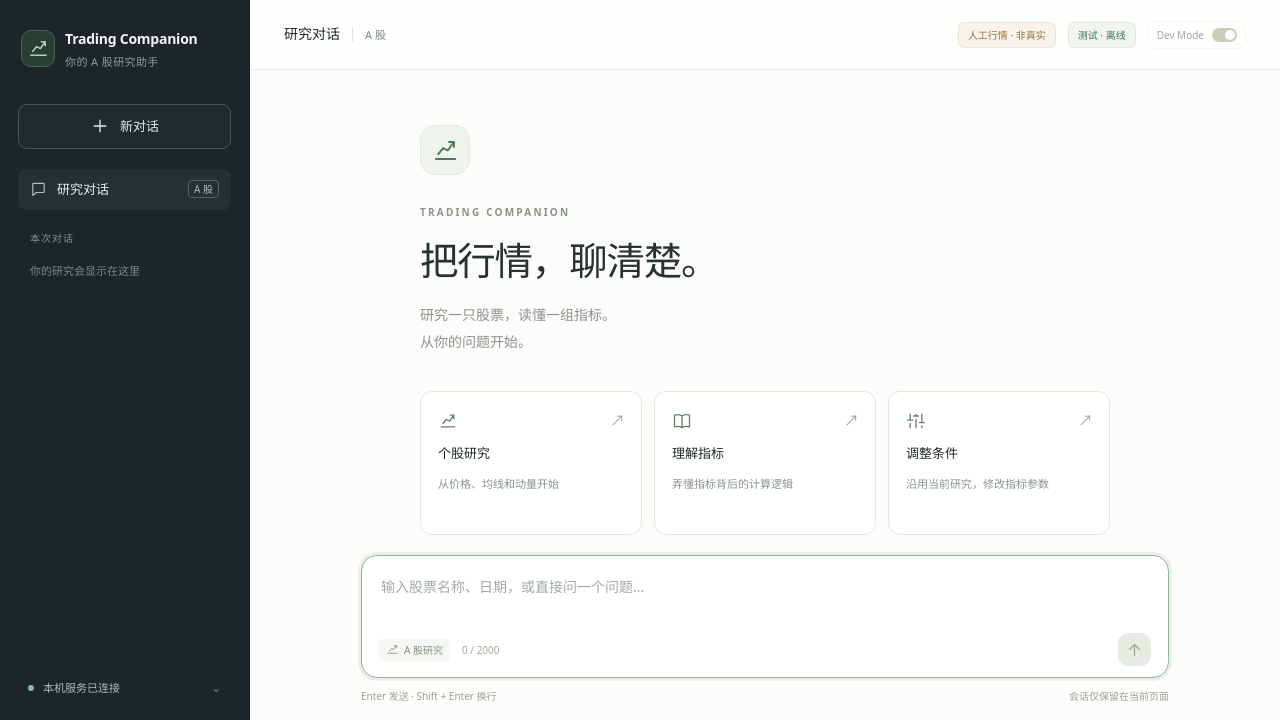
Test: conversation-first workspace › does not hide a limited result's message behind the full report
Type "分析平安银行" into the text box named "研究问题" at (765, 599), box x1=379 y1=572 x2=1151 y2=626
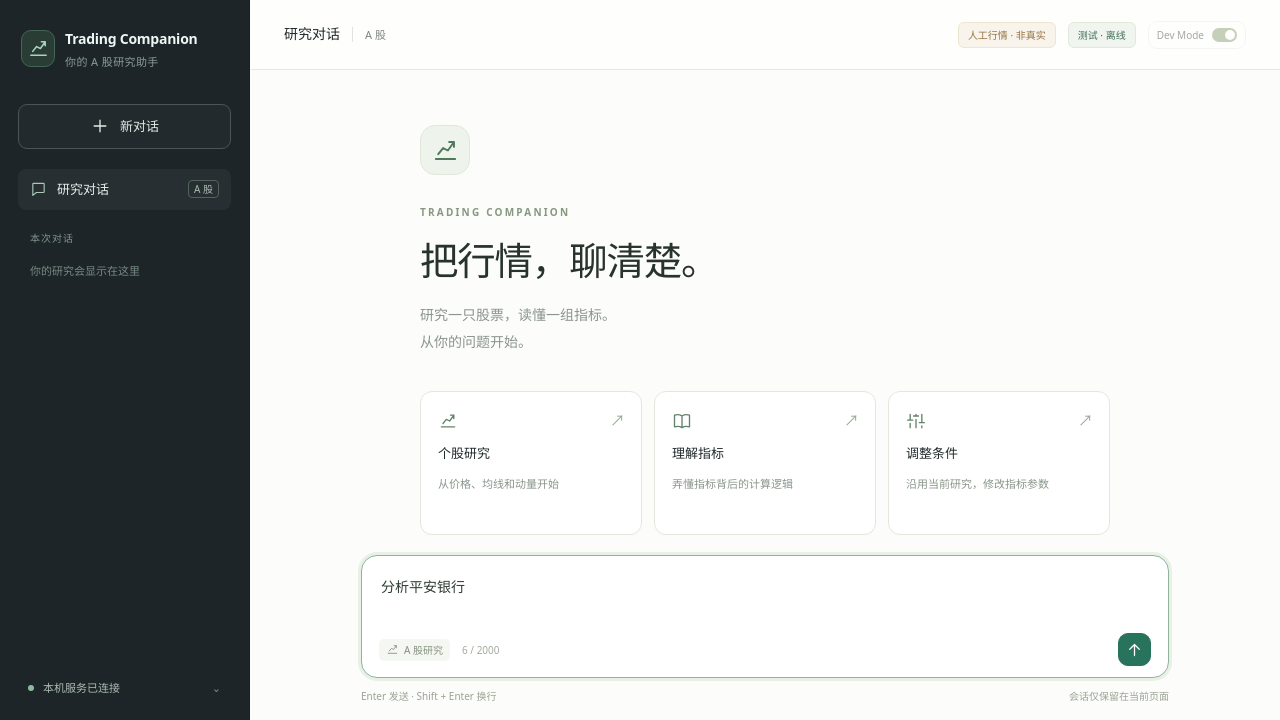
Click the button named "发送问题" at (1134, 650), box x1=1118 y1=633 x2=1151 y2=666
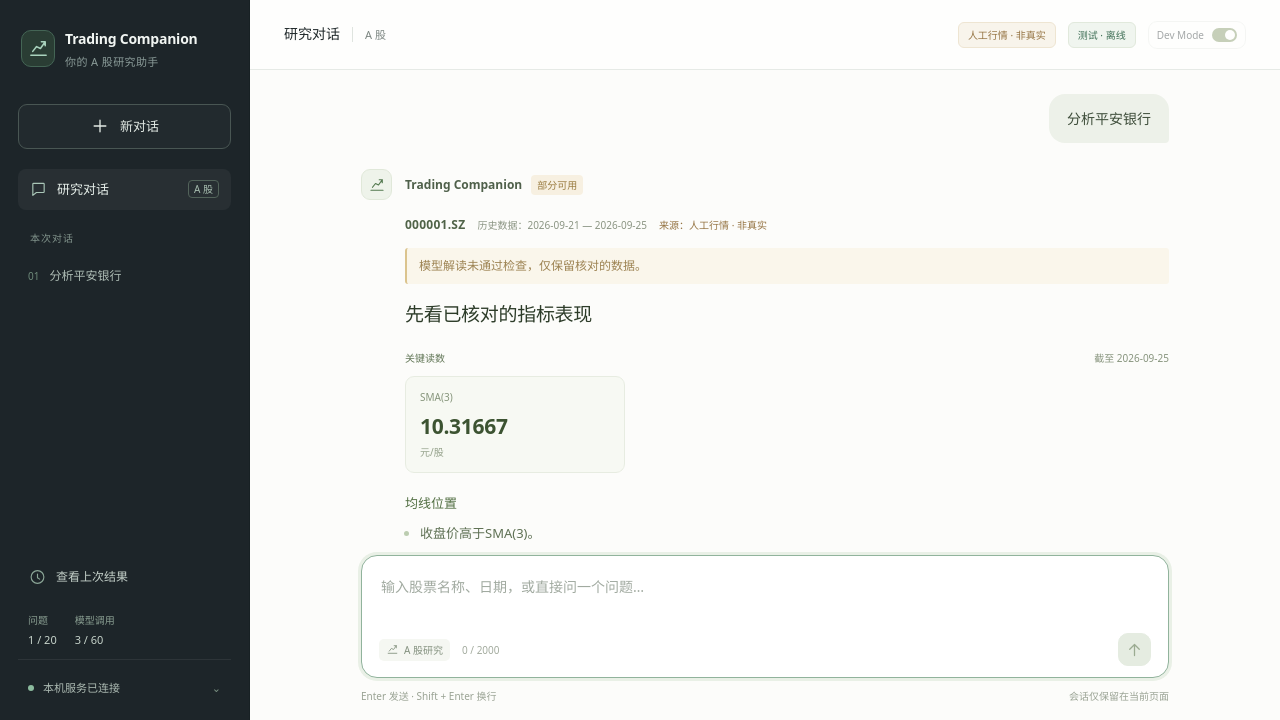
Expected: the text "模型解读未通过检查，仅保留核对的数据。" is shown, x1=405 y1=248 x2=1169 y2=284
